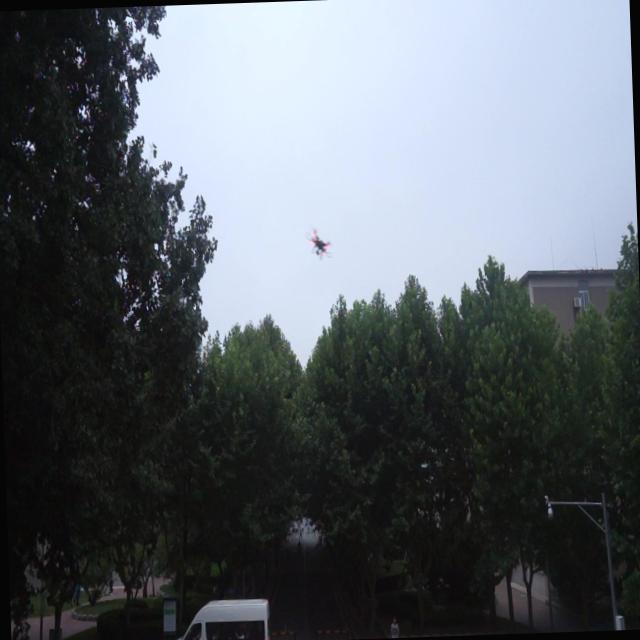drone: (308, 226, 331, 262)
